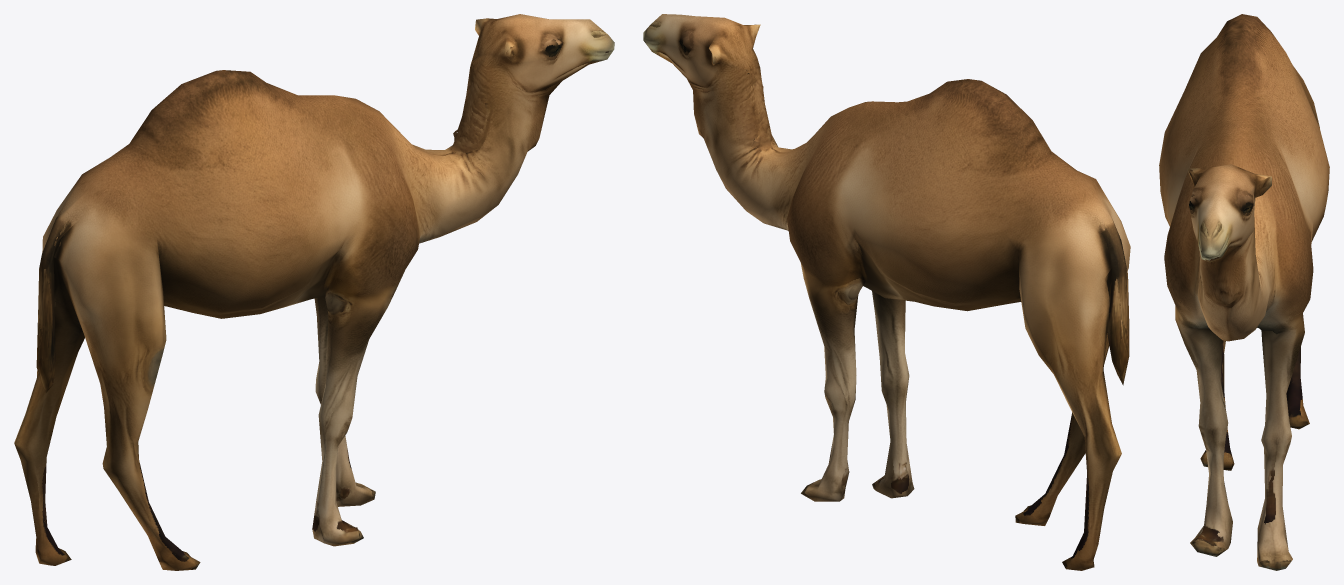
File: camel_single_1500.glb
3 renders of one model, left to right at view 1: azimuth 30°, elevation 25°; view 2: azimuth 150°, elevation 25°; view 3: azimuth 270°, elevation 25°, orthographic. The views are drawn at different scales.
Size of the model in its own units: 0.9006 by 0.7474 by 0.2411.
Materials: 1 (1 with a texture image).
